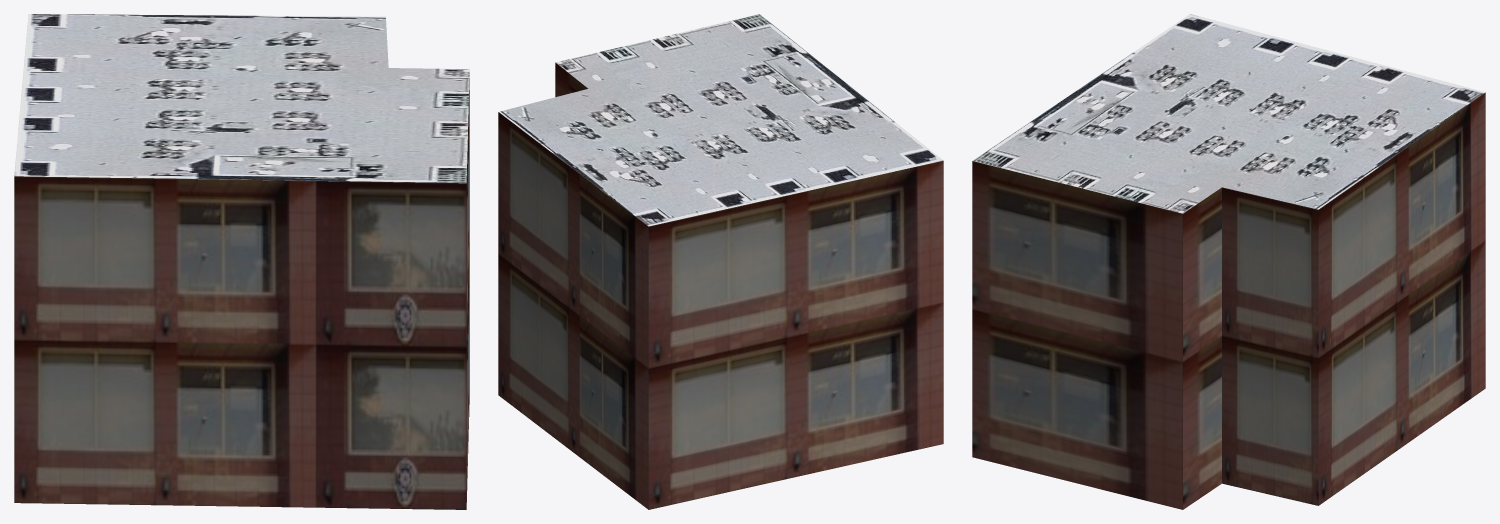
File: ResTex__3238.fbx
3 views of the same model, side by side, from view 1: azimuth 30°, elevation 25°; view 2: azimuth 150°, elevation 25°; view 3: azimuth 270°, elevation 25° (orthographic). The views are drawn at different scales.
Parts seen in each view (by area): view 1: CityEngineMaterial_13_m, CityEngineMaterial_m; view 2: CityEngineMaterial_13_m, CityEngineMaterial_m; view 3: CityEngineMaterial_13_m, CityEngineMaterial_m.
Boxes of the visible parts, x1=… form: CityEngineMaterial_13_m: x1=14, y1=78, x2=469, y2=509; CityEngineMaterial_m: x1=14, y1=14, x2=469, y2=183; CityEngineMaterial_13_m: x1=498, y1=62, x2=943, y2=509; CityEngineMaterial_m: x1=499, y1=14, x2=942, y2=226; CityEngineMaterial_13_m: x1=972, y1=92, x2=1485, y2=509; CityEngineMaterial_m: x1=973, y1=14, x2=1484, y2=213.
Size of the model in its own units: 8.68 by 6 by 9.42.
Materials: 2 (2 with a texture image).
